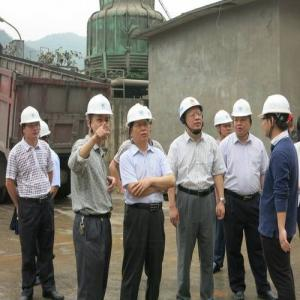white: (260, 95, 292, 139), (86, 93, 112, 140), (126, 102, 153, 147), (178, 95, 206, 136), (232, 99, 254, 138), (20, 106, 42, 143), (214, 110, 234, 139)
